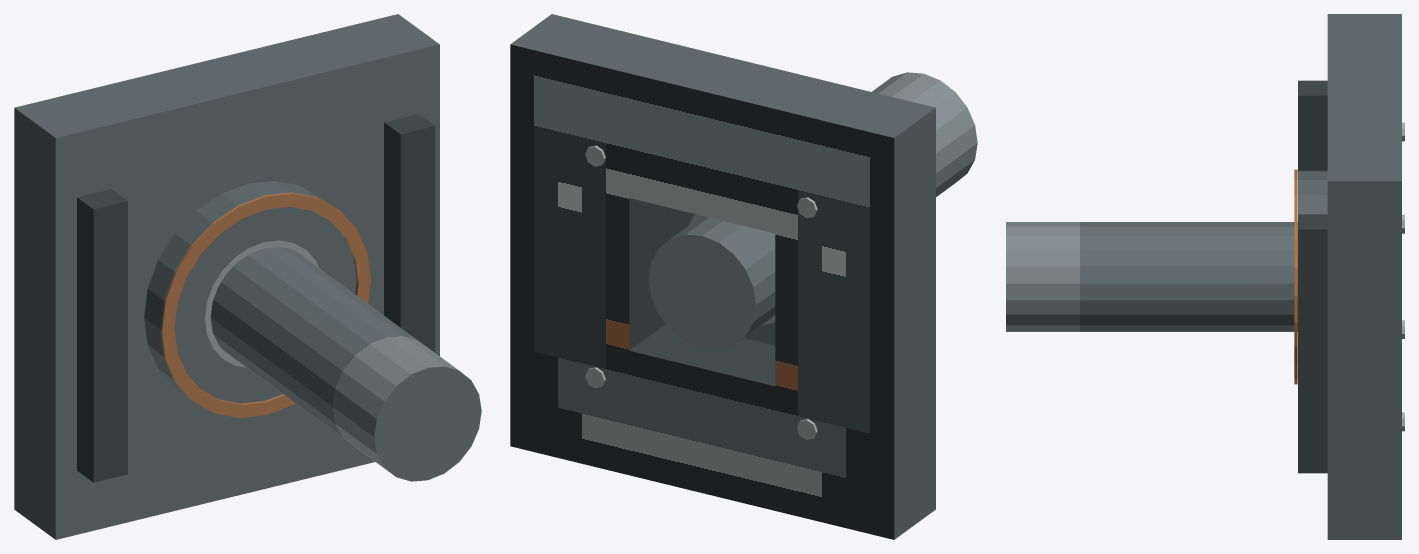
File: turbine_output_shaft_unformed.obj
3 views of the same model, side by side, from view 1: azimuth 30°, elevation 25°; view 2: azimuth 150°, elevation 25°; view 3: azimuth 270°, elevation 25° (orthographic). The views are drawn at different scales.
Parts seen in each view (by area): view 1: end_plate, output_shaft, fixed_outer_race, box_support_0.1, box_support_0.9, fixed_lock_ring, rotating_inner_race; view 2: end_plate, output_shaft, fixed_outer_race; view 3: end_plate, output_shaft, box_support_0.9, box_support_0.1, fixed_outer_race, fixed_lock_ring.
Part boxes in pixels (<box>): end_plate: <box>14,14,439,539</box>; output_shaft: <box>210,246,481,481</box>; fixed_outer_race: <box>144,181,356,403</box>; box_support_0.1: <box>77,189,127,482</box>; box_support_0.9: <box>384,114,435,352</box>; fixed_lock_ring: <box>160,192,370,417</box>; rotating_inner_race: <box>205,240,318,367</box>; end_plate: <box>510,14,935,539</box>; output_shaft: <box>648,72,977,349</box>; fixed_outer_race: <box>671,208,775,345</box>; end_plate: <box>1327,14,1401,539</box>; output_shaft: <box>1006,222,1297,331</box>; box_support_0.9: <box>1298,214,1327,473</box>; box_support_0.1: <box>1298,80,1327,170</box>; fixed_outer_race: <box>1298,170,1327,214</box>; fixed_lock_ring: <box>1294,169,1297,384</box>.
Size of the model in its own units: 1 by 1 by 1.01.
